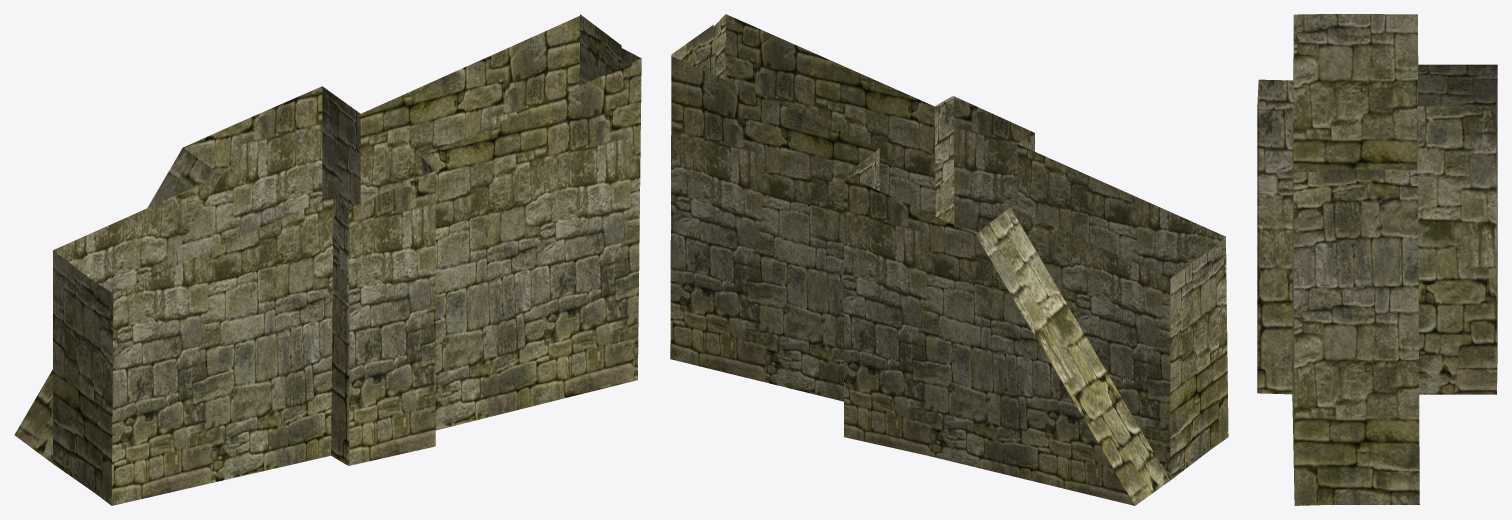
Rendered from Wall_Sliced_Bottom.FBX.
The picture shows the model from 3 angles, left to right: view 1: azimuth 30°, elevation 25°; view 2: azimuth 150°, elevation 25°; view 3: azimuth 270°, elevation 25°; orthographic projection. The views are drawn at different scales.
Visible parts, largest first — view 1: Bottom; view 2: Bottom; view 3: Bottom.
Boxes of the visible parts, box(x1,y1,x2,y2) form: Bottom: box(14, 14, 641, 505); Bottom: box(670, 14, 1228, 505); Bottom: box(1257, 14, 1497, 505).
Size of the model in its own units: 1208 by 455 by 703.
Materials: 1 (1 with a texture image).
